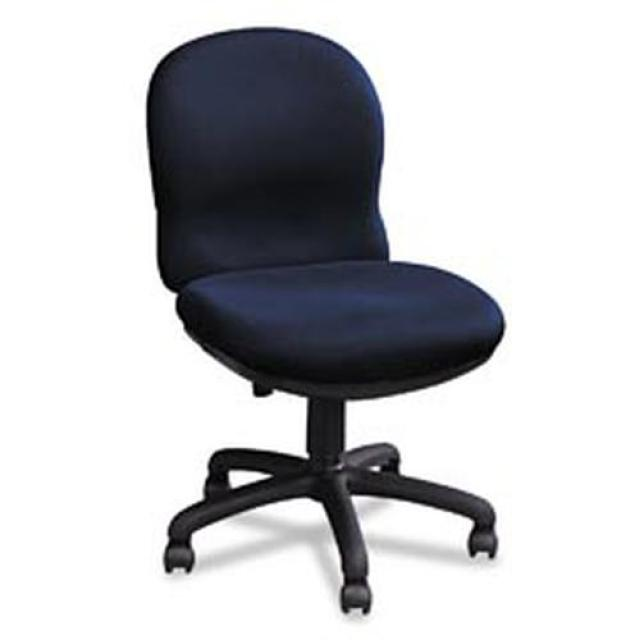swivelchair: (146, 28, 507, 617)
